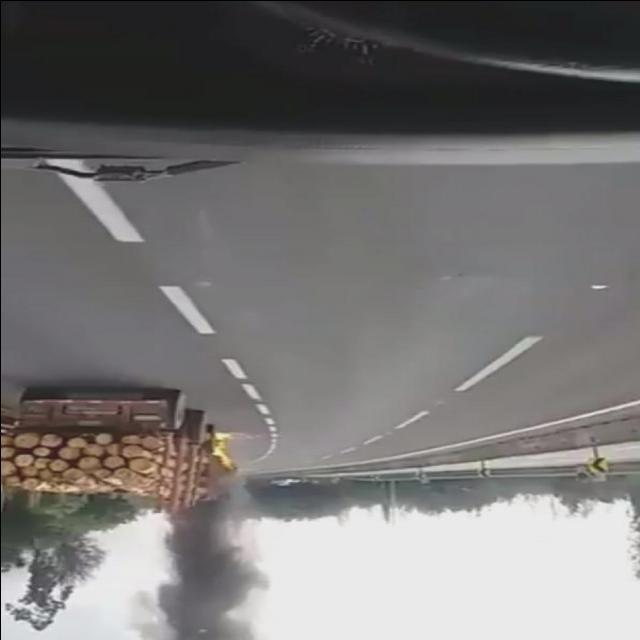Fire: (211, 430, 237, 470)
